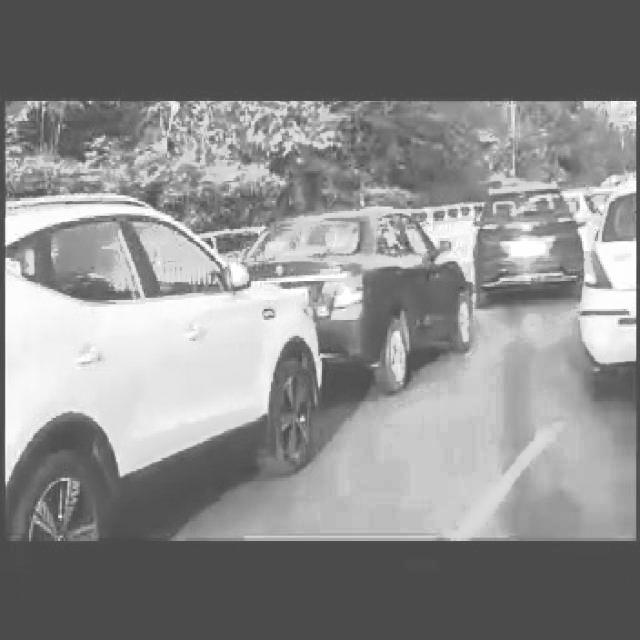Car: (2, 182, 298, 548), (278, 202, 467, 380), (464, 196, 584, 300), (591, 185, 640, 374)
